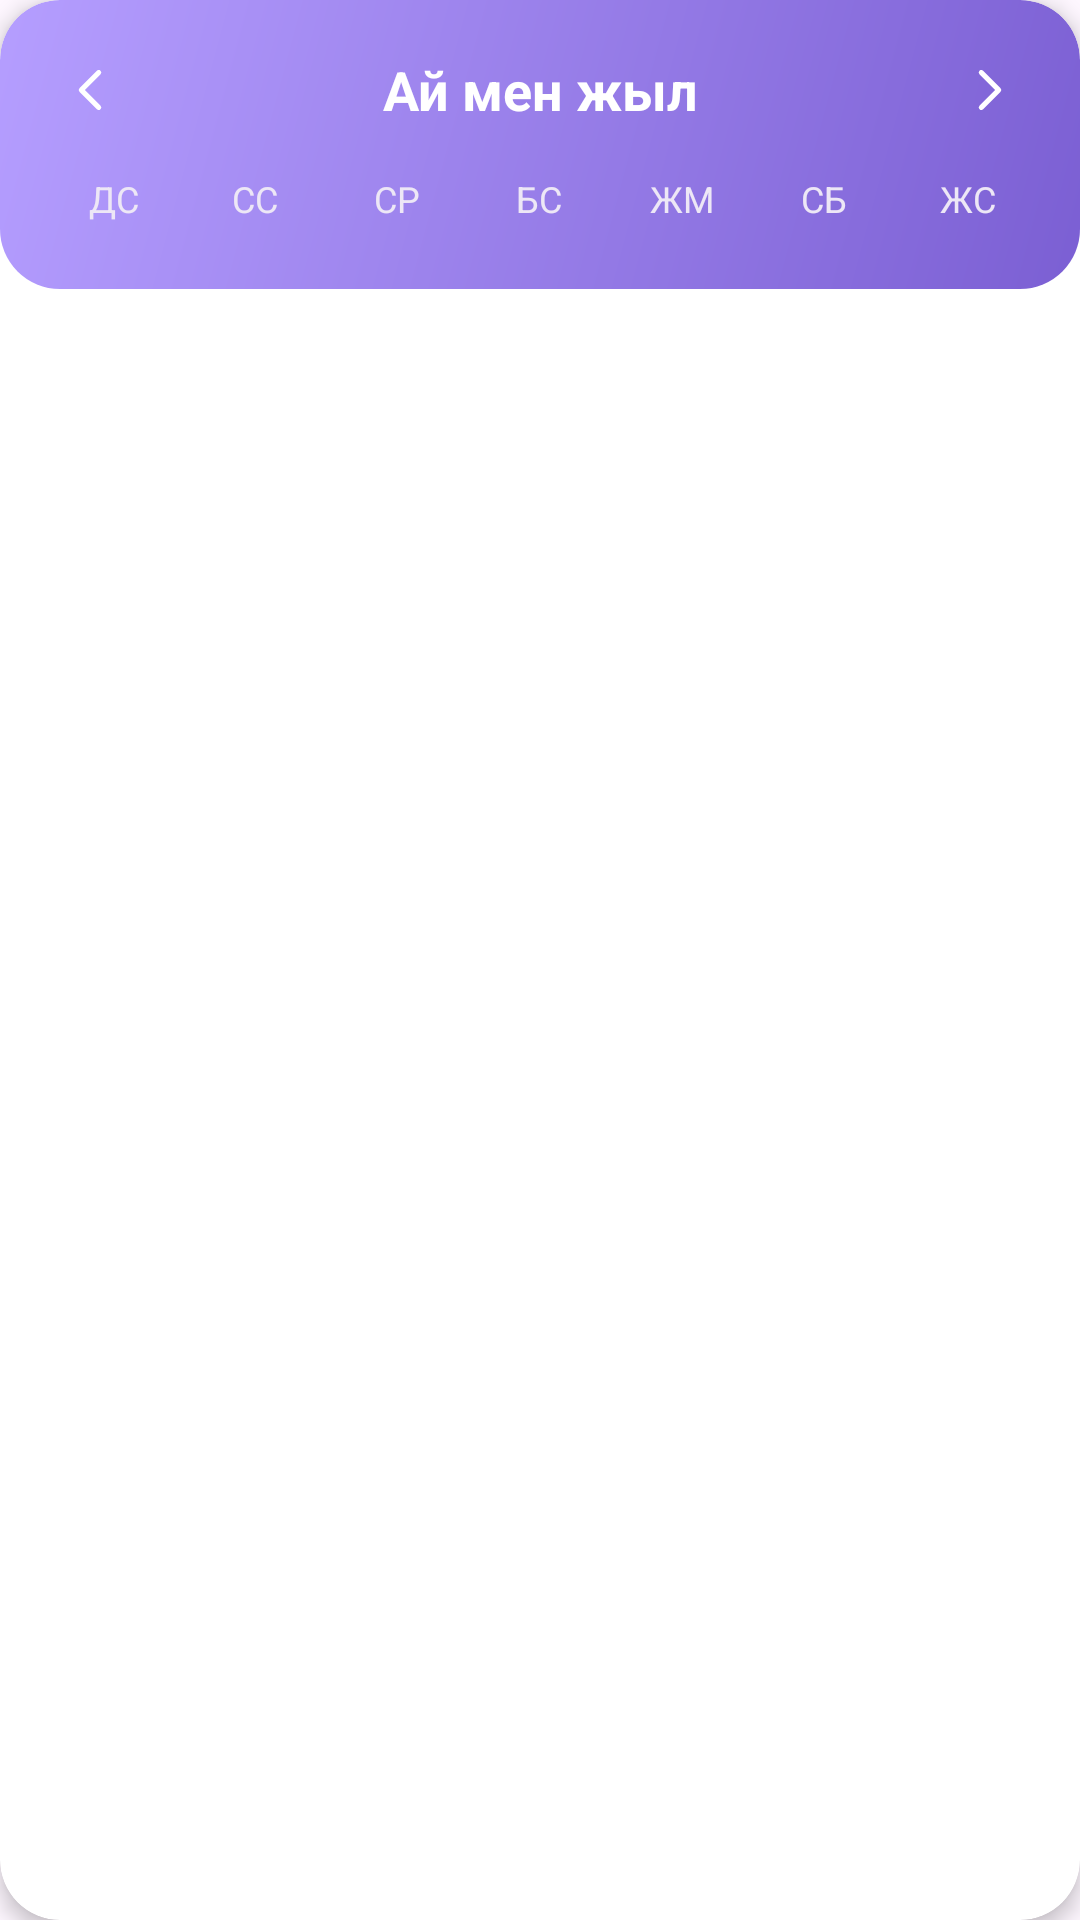

Screen size 1080x1920. Icon name, then its center in pixels as [x,y]:
chevron left: [90,90]
chevron right: [989,90]
